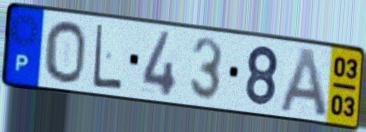3: (189, 34, 225, 104)
4: (140, 29, 179, 99)
8: (243, 43, 281, 109)
A: (276, 45, 330, 119)
L: (91, 21, 124, 92)
O: (43, 19, 88, 86)
